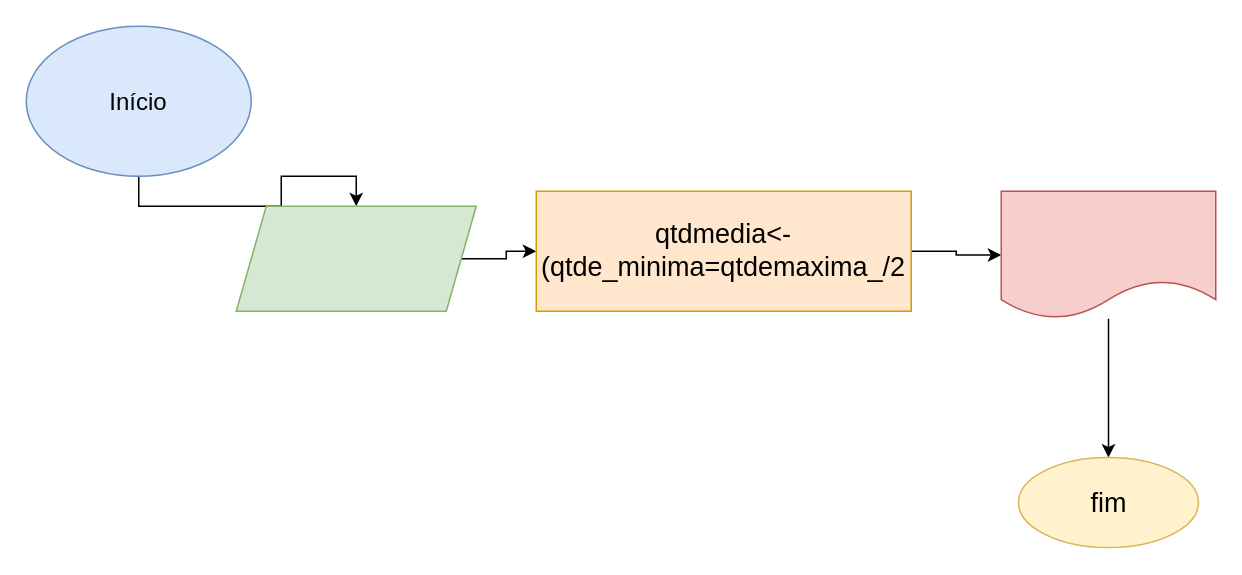
Image size: 1242x575. Some labels were removed from this diagram. The shapes that lost their labels are listed below. From the top down, each one's centre as x and y in pixels, then its label:
At point (355, 258): "qtdemin,qtdemax".
At point (1108, 254): "estoquemedio".
